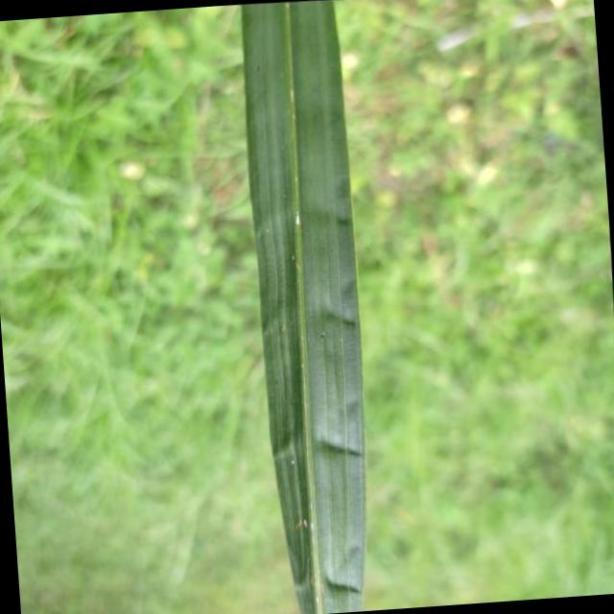Boron: (238, 0, 368, 614)
